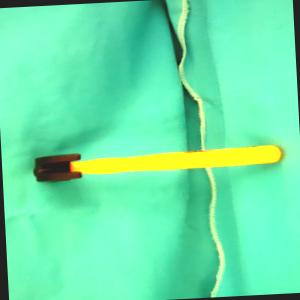martelo: (31, 142, 282, 183)
